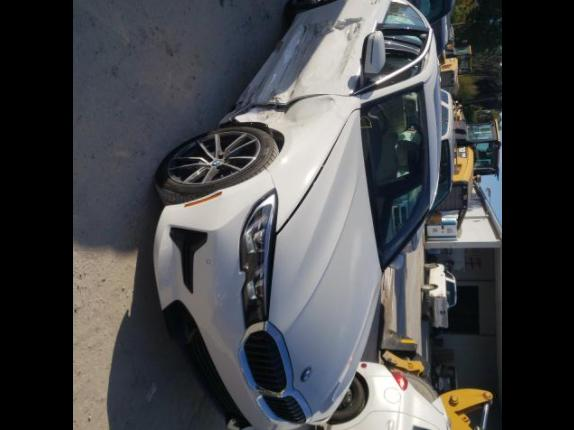Broken part: (217, 17, 432, 123), (265, 118, 349, 322)
Corrosion: (182, 191, 222, 209)
Dent: (226, 16, 366, 130)
Missing part: (377, 29, 427, 74)
